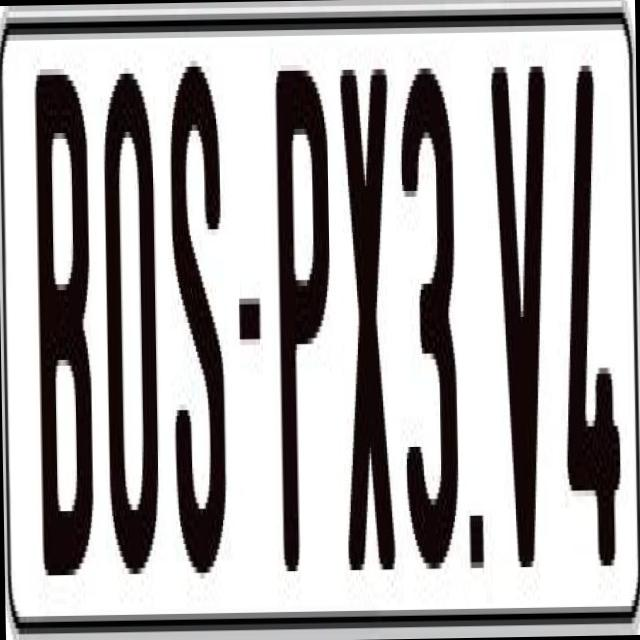0: (100, 61, 160, 580)
3: (395, 56, 464, 563)
4: (560, 58, 628, 566)
B: (31, 56, 93, 564)
P: (272, 70, 338, 594)
S: (168, 54, 230, 578)
V: (488, 54, 558, 585)
X: (337, 57, 397, 576)
